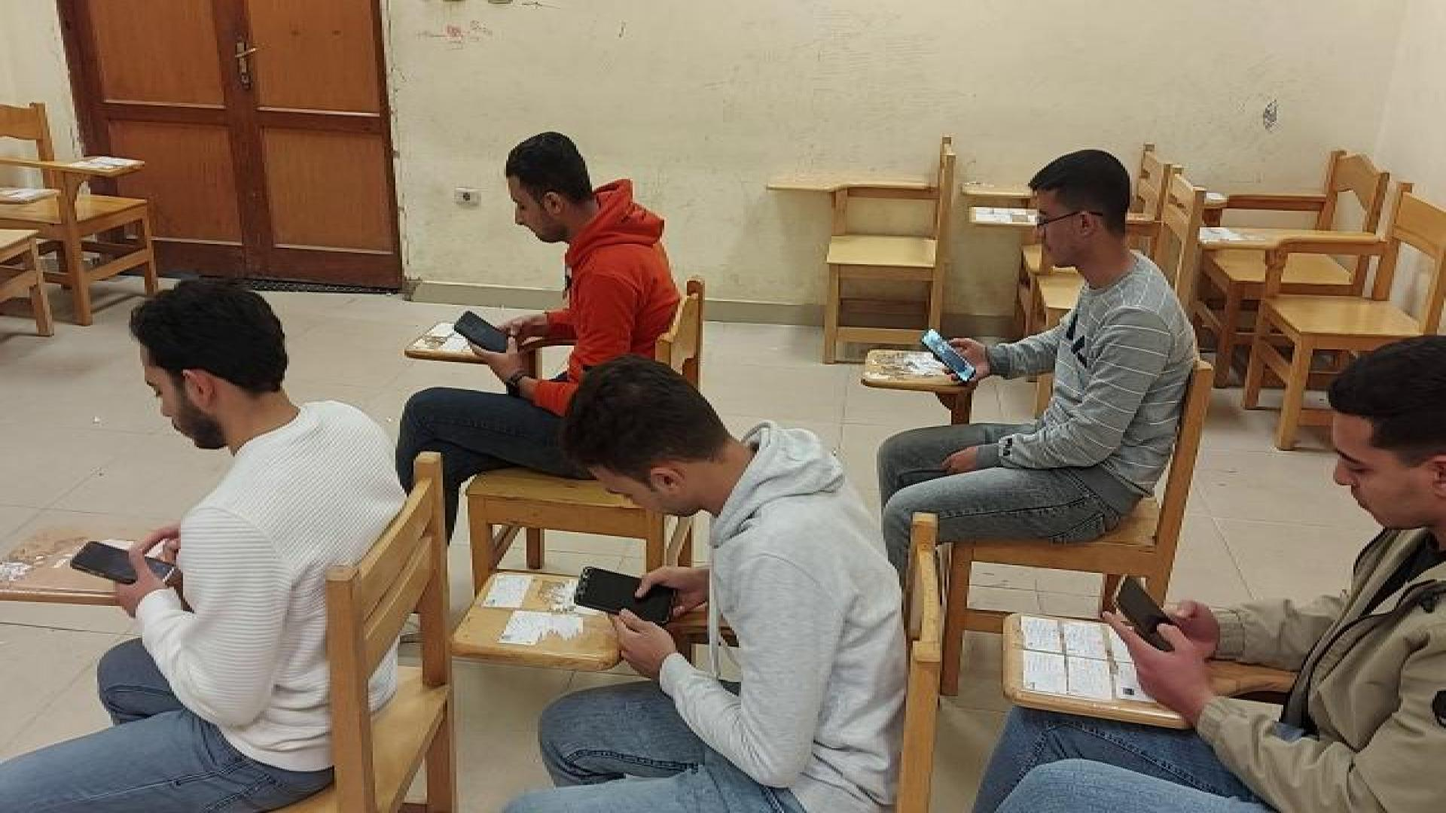phone: (573, 566, 672, 624), (68, 539, 176, 585), (1112, 571, 1164, 641), (920, 328, 976, 382), (452, 310, 506, 351)
